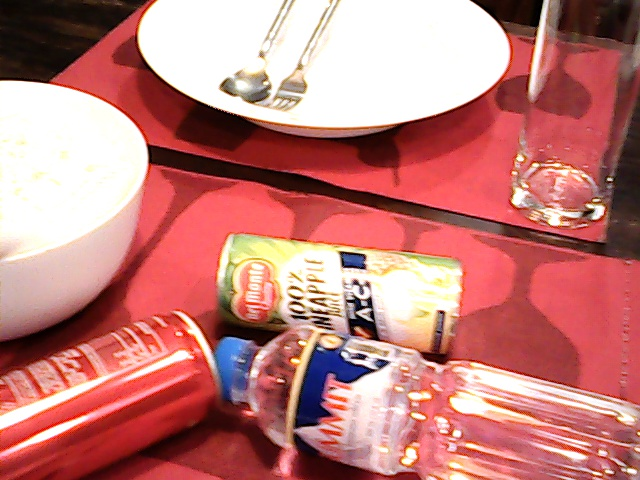Cola: (1, 304, 224, 477)
Pine Juice: (202, 218, 491, 337)
Summit Water: (209, 340, 640, 480)
